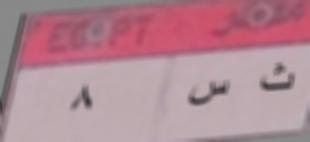8: (66, 82, 95, 117)
seen: (184, 75, 235, 111)
thaa: (258, 61, 297, 99)
